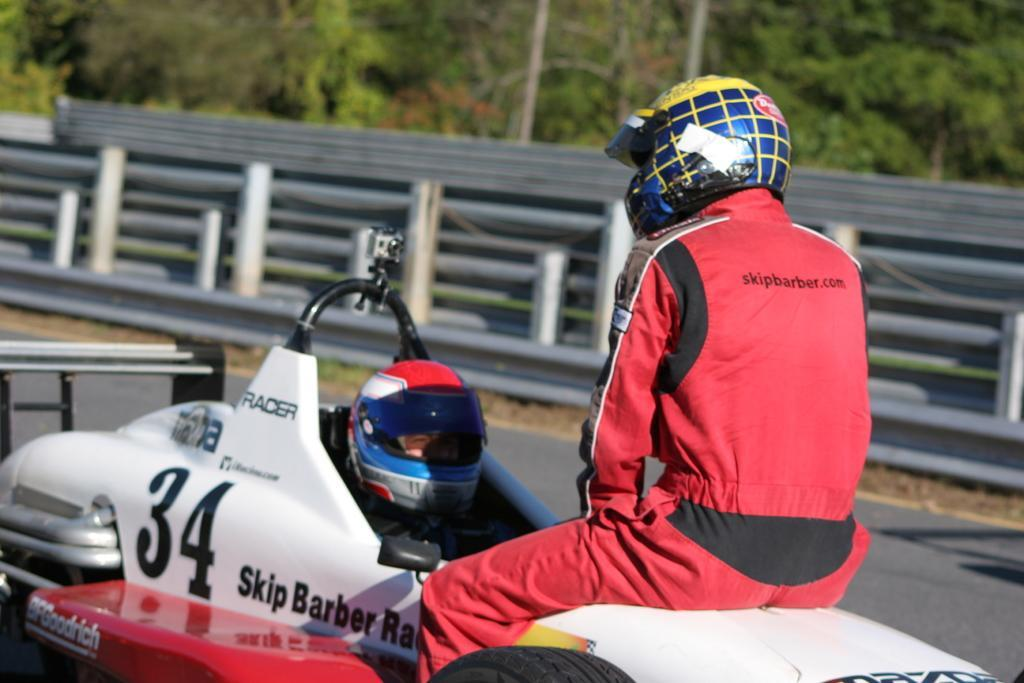helmet: (602, 71, 794, 241), (348, 357, 489, 520)
